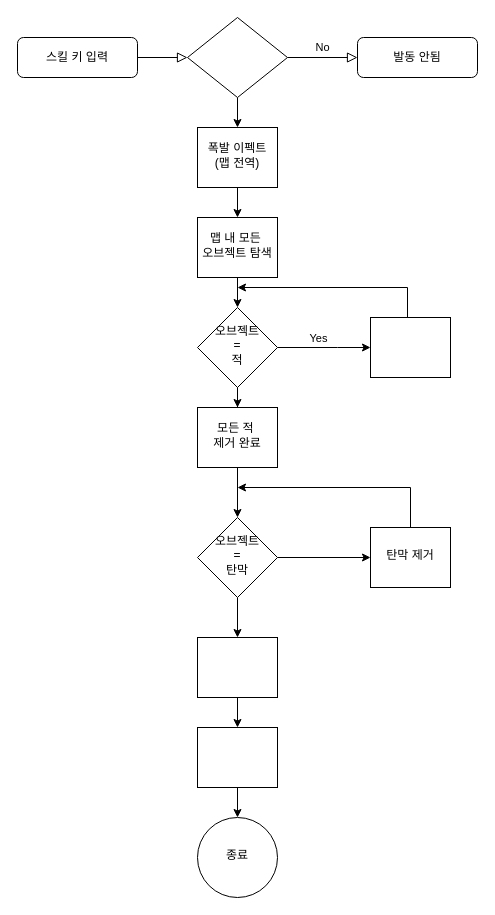
Some shapes in this 495 by 915 pixel diagram are drawn without their labels. Here are the shapes that lost their labels. From the top down, the centre of each, then its label:
the point at 237,57: 스킬 게이지 = 100
the point at 410,347: 적에게 고정 데미지
the point at 237,667: 모든 탄막 제거 완료
the point at 237,757: 쿨다운 시작 및 궁극기 종료
